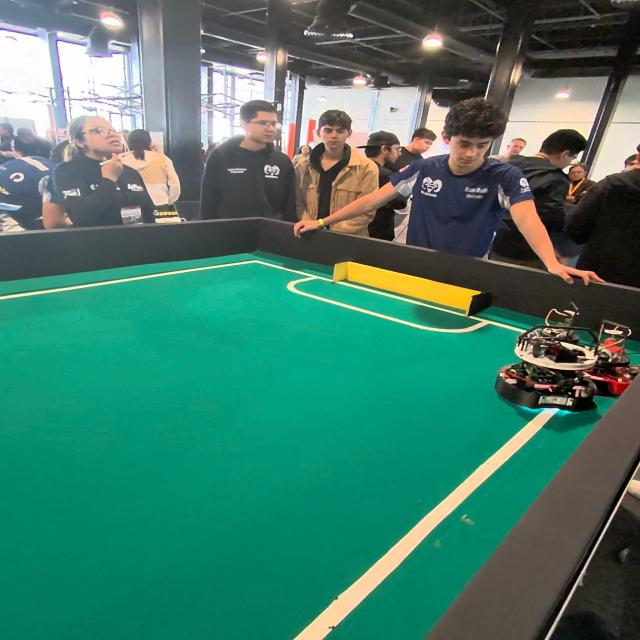Robot: (497, 297, 640, 420), (591, 331, 640, 395)
